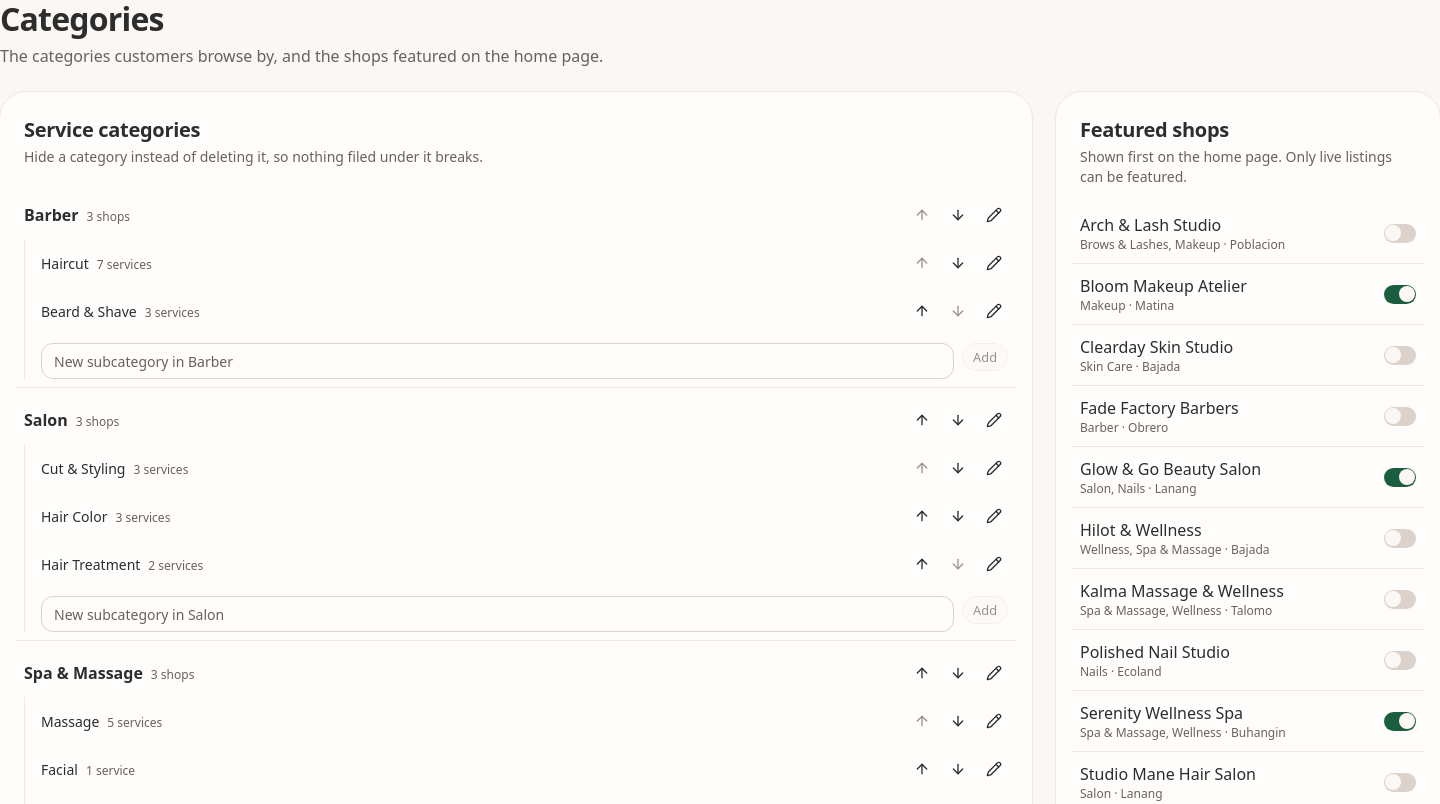
Test: AdminCategoriesPage › hides a subcategory from customers
What coordinates should you click on to do the following:
click the button named "Edit Beard & Shave"
I would click on:
 (994, 311)
Its box is [980, 297, 1008, 325].
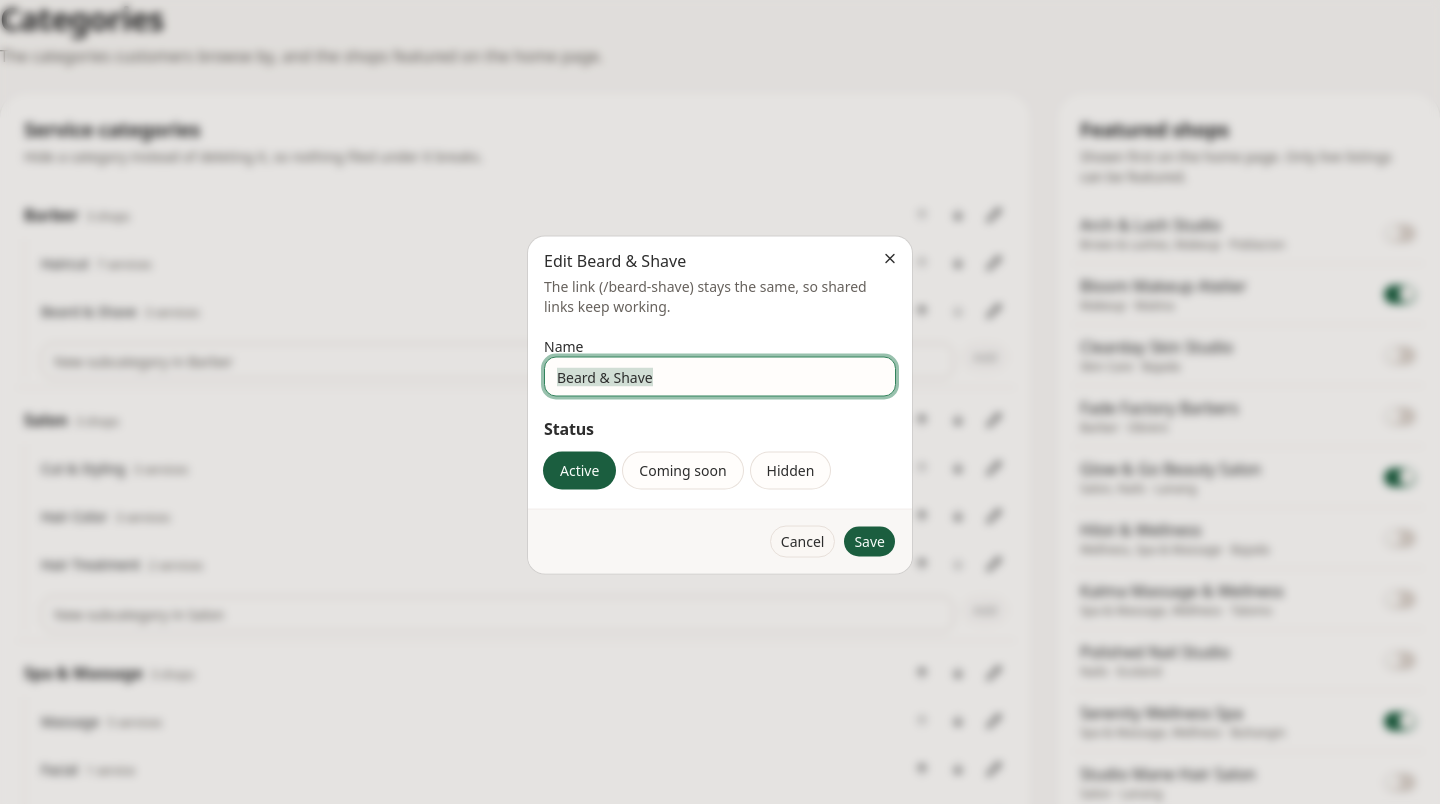
What coordinates should you click on to do the following:
click the radio button labelled "Hidden"
I would click on:
 (790, 470)
Its box is [751, 452, 830, 488].
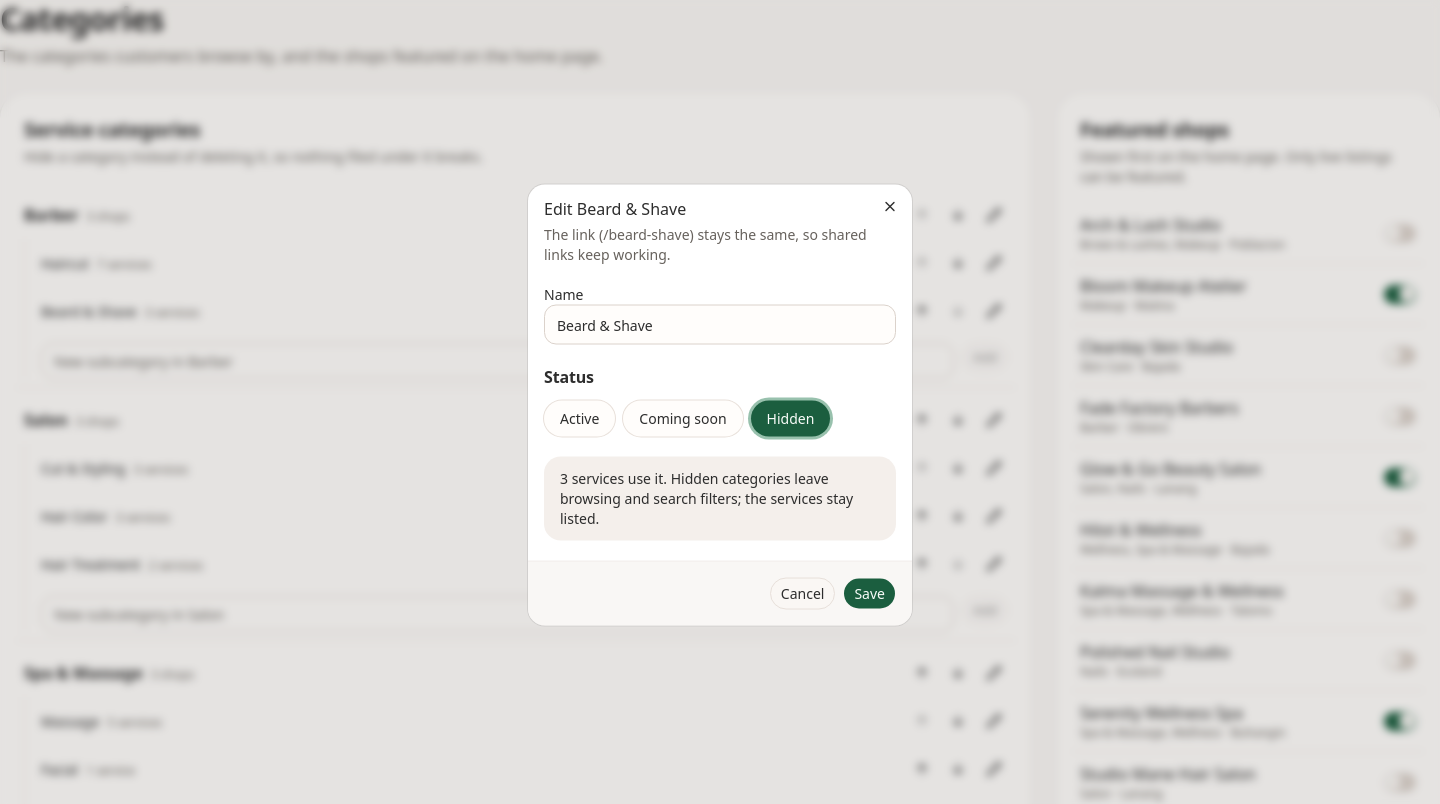
Result: the text "services use it" is shown at [572, 468, 663, 488]
What coordinates should you click on to do the following:
click the button "Save"
I would click on:
 (870, 594)
Its box is [843, 578, 896, 610].
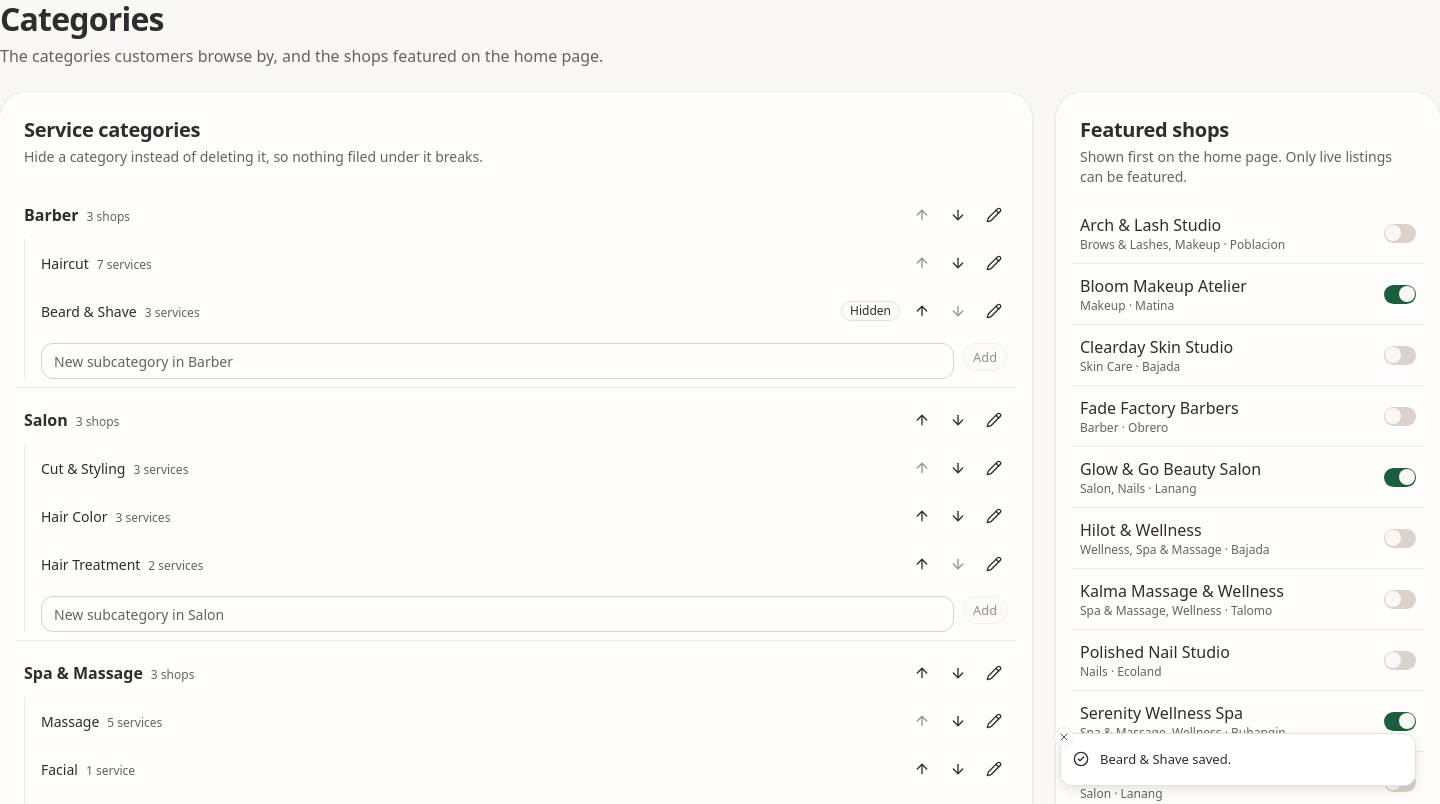
Result: the text "Beard & Shave saved." is shown at [1100, 750, 1231, 769]
